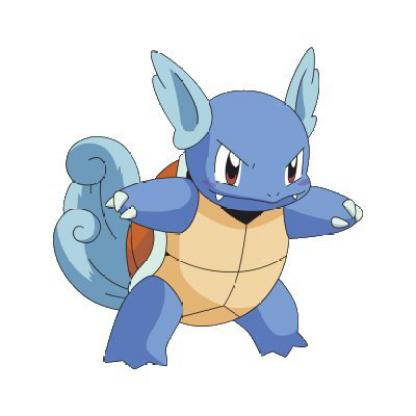Wartortle: (49, 34, 370, 390)
